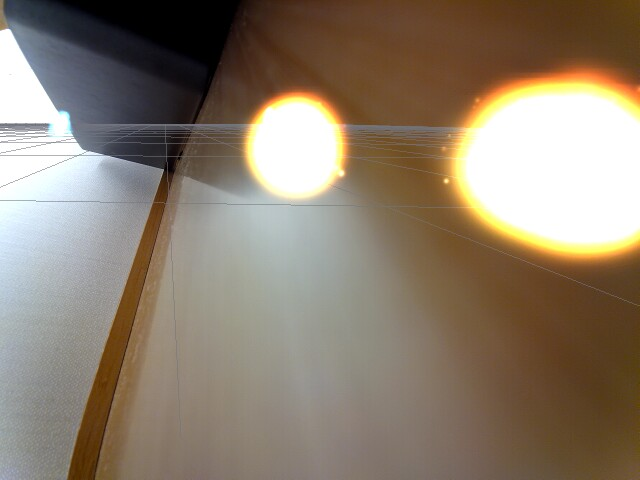firebig: (437, 58, 640, 289)
